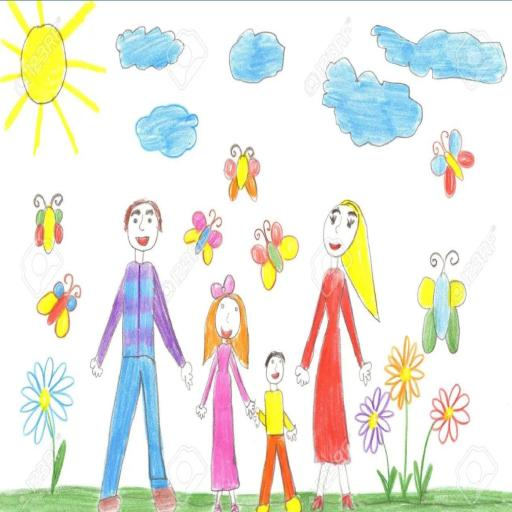person: (85, 198, 193, 510), (302, 197, 380, 510), (193, 274, 255, 509), (256, 336, 302, 511)
